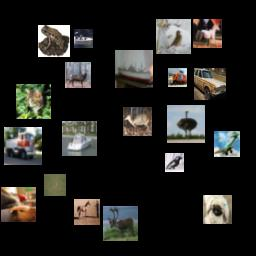airplane: (214, 131, 240, 157)
automobile: (194, 68, 226, 100)
bird: (167, 105, 205, 143), (156, 19, 191, 54), (165, 153, 184, 172)
cat: (16, 84, 51, 119)
deer: (103, 206, 138, 241), (123, 107, 152, 136), (65, 62, 91, 88), (44, 174, 66, 196)
dog: (1, 187, 36, 222), (203, 195, 232, 224)
frog: (38, 25, 70, 57)
ship: (115, 50, 153, 88), (62, 121, 97, 156), (74, 29, 93, 48)
truck: (4, 127, 42, 165), (168, 68, 187, 87)
